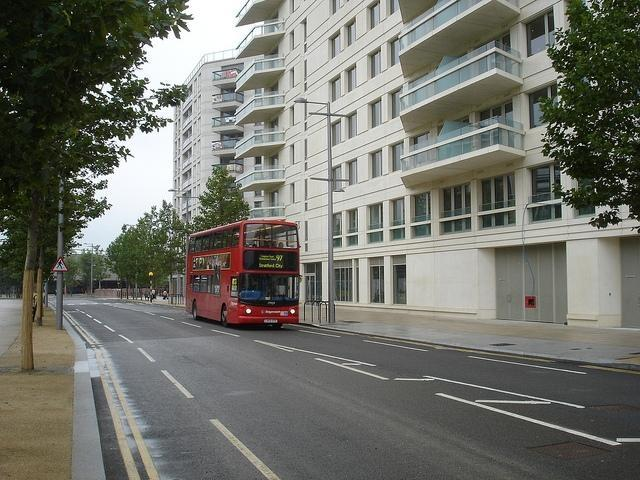bus: (184, 218, 299, 330)
